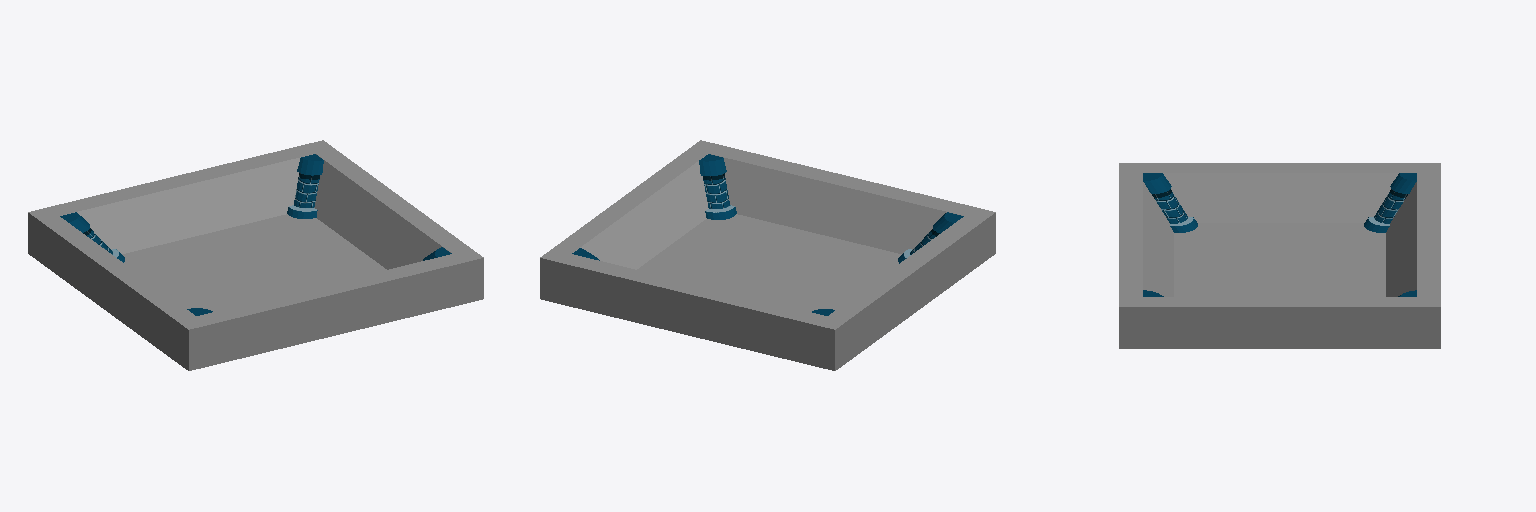
The picture shows the model from 3 angles: view 1: azimuth 30°, elevation 25°; view 2: azimuth 150°, elevation 25°; view 3: azimuth 270°, elevation 25°; orthographic projection.
Parts seen in each view (by area): view 1: lvl1; view 2: lvl1; view 3: lvl1.
Part boxes in pixels (x1,y1,x2,y2): lvl1: (28,140,483,370); lvl1: (540,140,995,370); lvl1: (1119,163,1440,348).
Bounding box in the file's own units: 13.36 × 1.82 × 12.6.
2 materials, 1 textured.